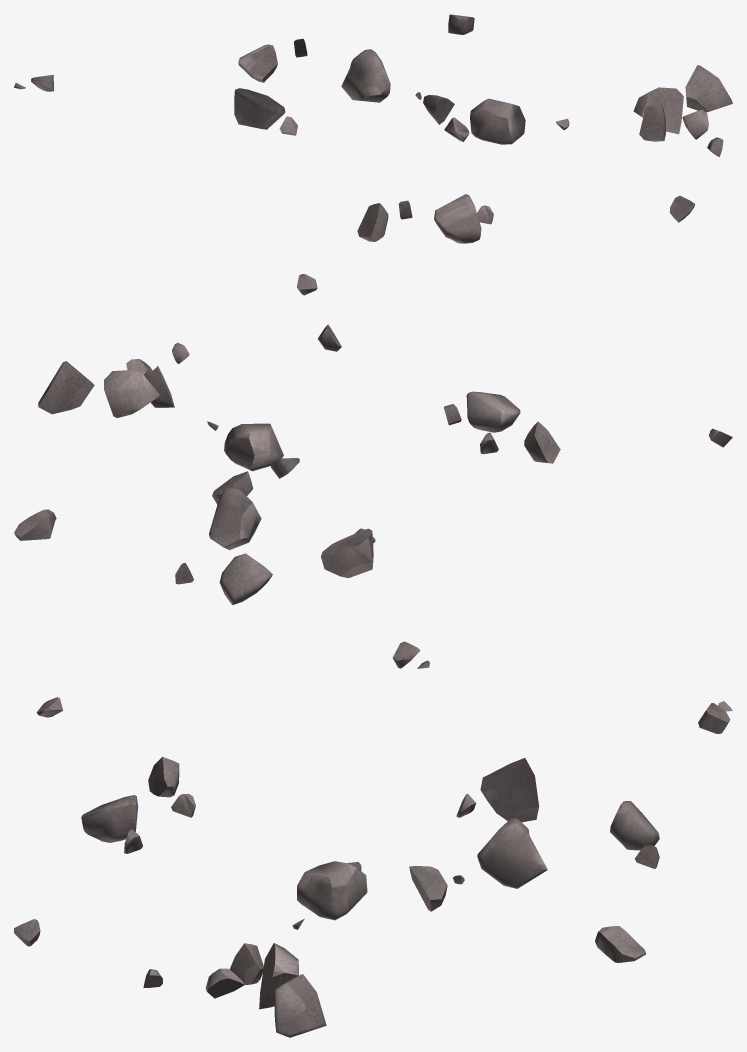
3 views of the same model, one above another, from view 1: azimuth 30°, elevation 25°; view 2: azimuth 150°, elevation 25°; view 3: azimuth 270°, elevation 25° (orthographic). The views are drawn at different scales.
Visible parts, largest first — view 1: body0_model0_lod0_mesh0; view 2: body0_model0_lod0_mesh0; view 3: body0_model0_lod0_mesh0.
Boxes of the visible parts, left/top/right/bottom form: body0_model0_lod0_mesh0: left=14, top=14, right=732, bottom=295; body0_model0_lod0_mesh0: left=14, top=324, right=732, bottom=668; body0_model0_lod0_mesh0: left=14, top=697, right=732, bottom=1037.
Bounding box in the file's own units: 297 × 30.06 × 287.
Materials: 1 (1 with a texture image).
